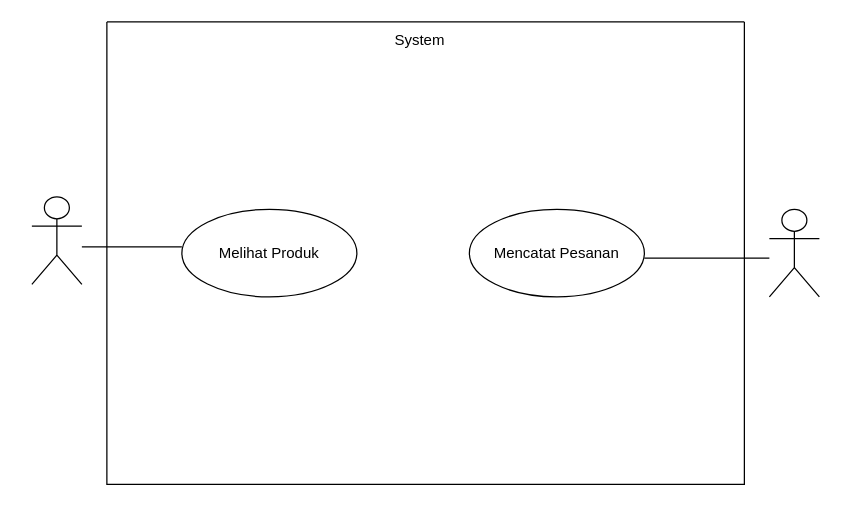
This 845x506 diagram has some shape labels left out. The shapes that lost their labels are listed below. From the top down, each one's centre as x and y in pixels, then its label:
[56,240]: Pelanggan
[793,252]: Pegawai
